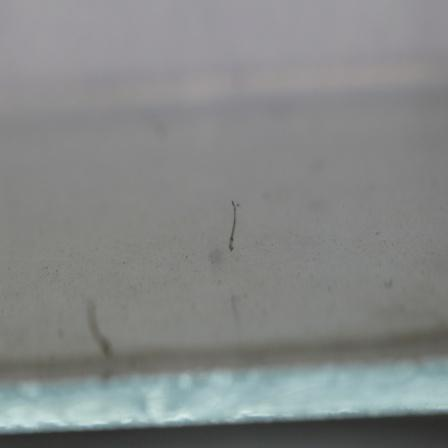Jentik-Nyamuk: (226, 196, 244, 256)
